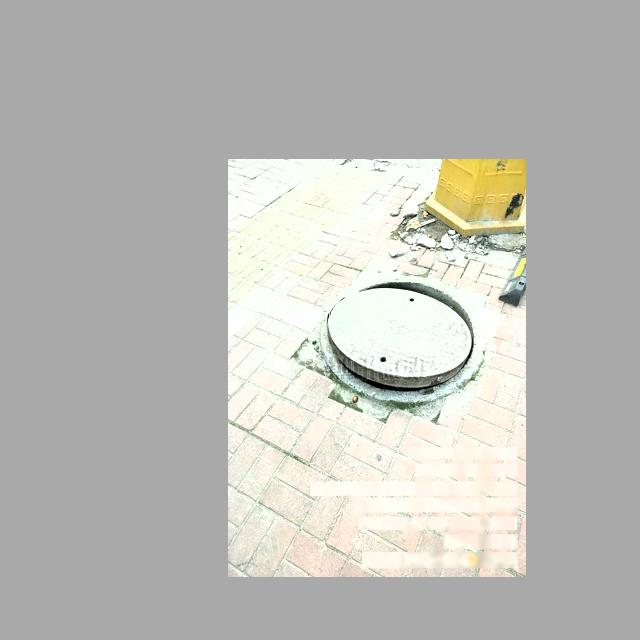uncovered: (325, 275, 484, 403)
